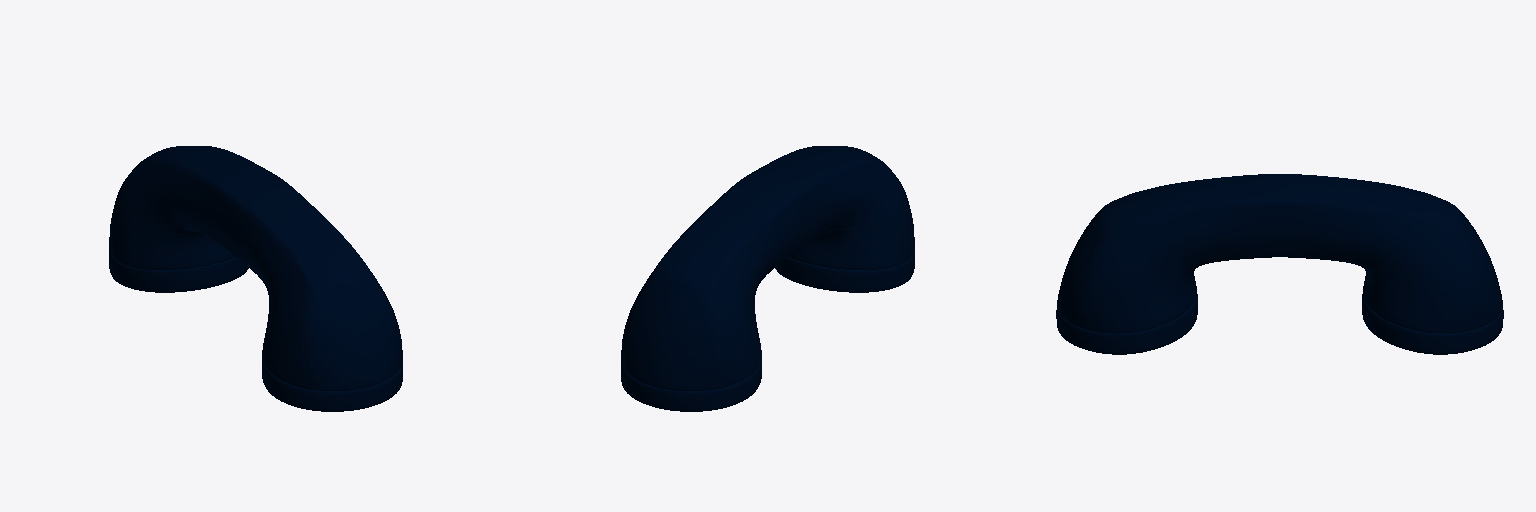
File: reciever.obj
3 renders of one model, left to right at view 1: azimuth 30°, elevation 25°; view 2: azimuth 150°, elevation 25°; view 3: azimuth 270°, elevation 25°, orthographic.
Parts seen in each view (by area): view 1: obj3; view 2: obj3; view 3: obj3.
Part boxes in pixels (bbox=[...]): obj3: bbox=[109, 146, 402, 411]; obj3: bbox=[621, 146, 914, 411]; obj3: bbox=[1056, 174, 1503, 354].
Size of the model in its own units: 3.65 by 4.08 by 11.52.